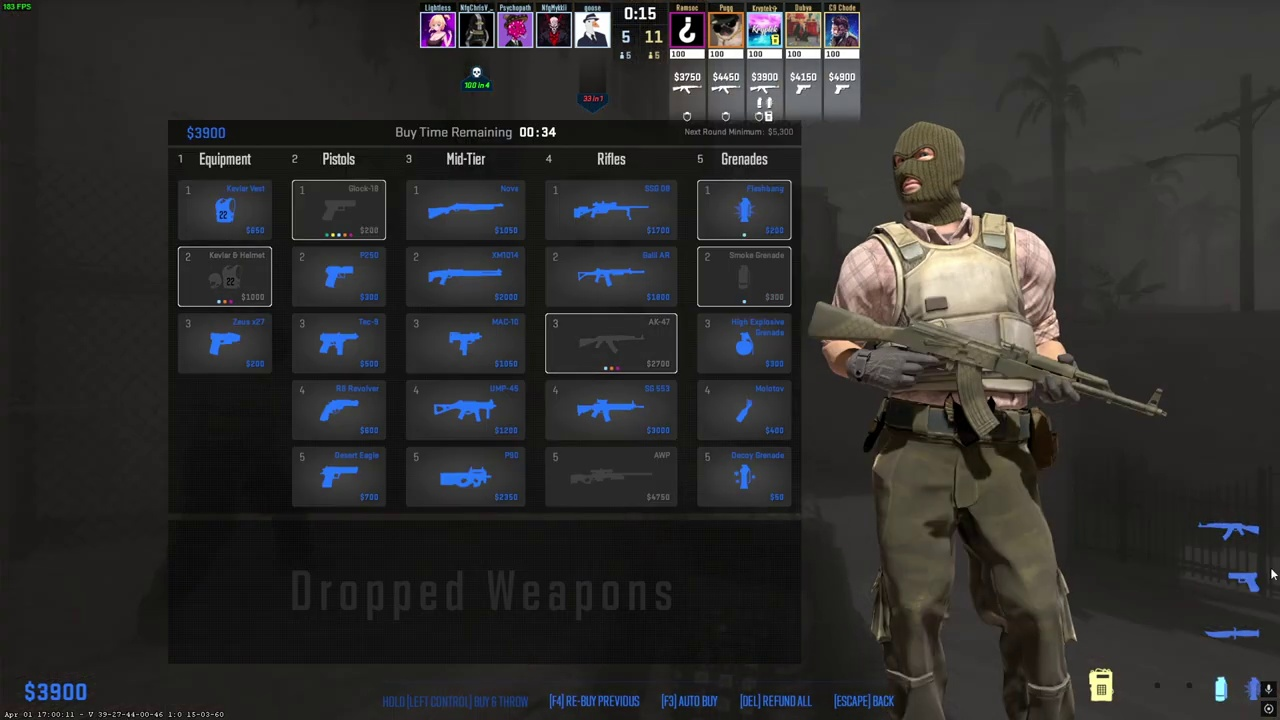Terrorist: (848, 121, 1080, 720)
